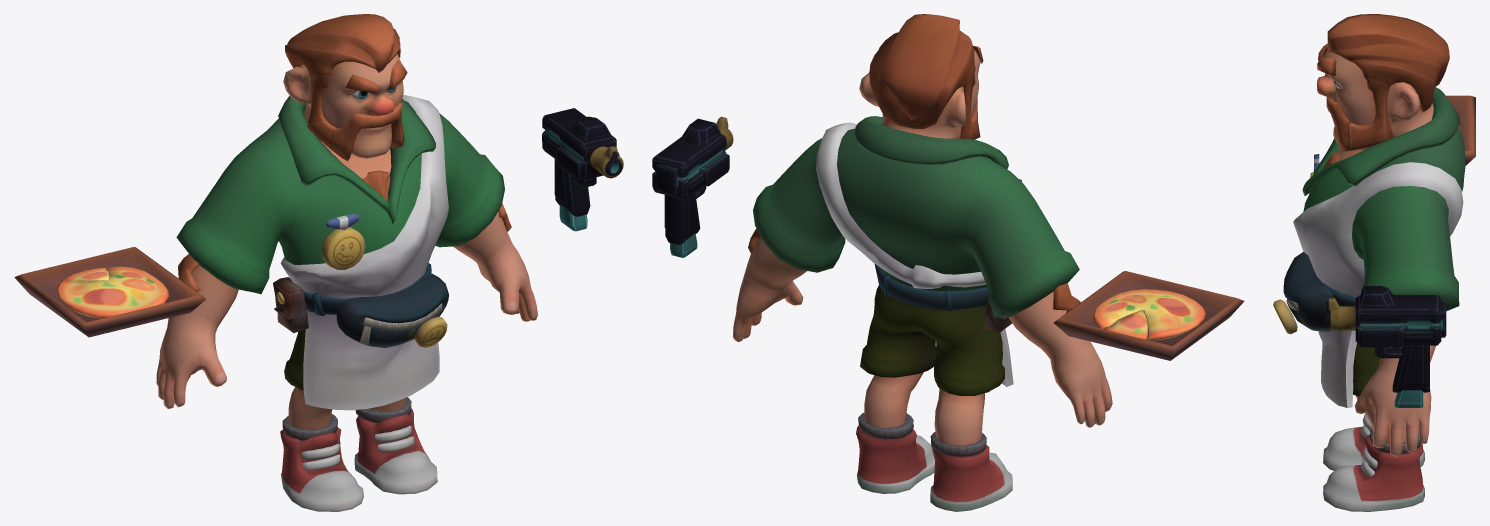
Rendered from model_oldsoldier_L.FBX.
3 renders of one model, left to right at view 1: azimuth 30°, elevation 25°; view 2: azimuth 150°, elevation 25°; view 3: azimuth 270°, elevation 25°, orthographic.
Visible parts, largest first — view 1: model_oldsoldier, model_oldsoldier_qiang; view 2: model_oldsoldier, model_oldsoldier_qiang; view 3: model_oldsoldier, model_oldsoldier_qiang.
Boxes of the visible parts, x1=… form: model_oldsoldier: x1=156, y1=14, x2=537, y2=511; model_oldsoldier_qiang: x1=14, y1=108, x2=623, y2=337; model_oldsoldier: x1=733, y1=14, x2=1112, y2=511; model_oldsoldier_qiang: x1=652, y1=116, x2=1244, y2=360; model_oldsoldier: x1=1273, y1=14, x2=1465, y2=511; model_oldsoldier_qiang: x1=1325, y1=95, x2=1475, y2=407.
Bounding box in the file's own units: 205 × 165 × 65.97.
